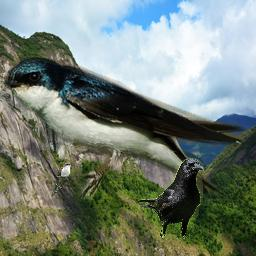Crow: (138, 158, 204, 239)
Cuckoo: (50, 162, 72, 197)
Swallow: (1, 55, 256, 206)
